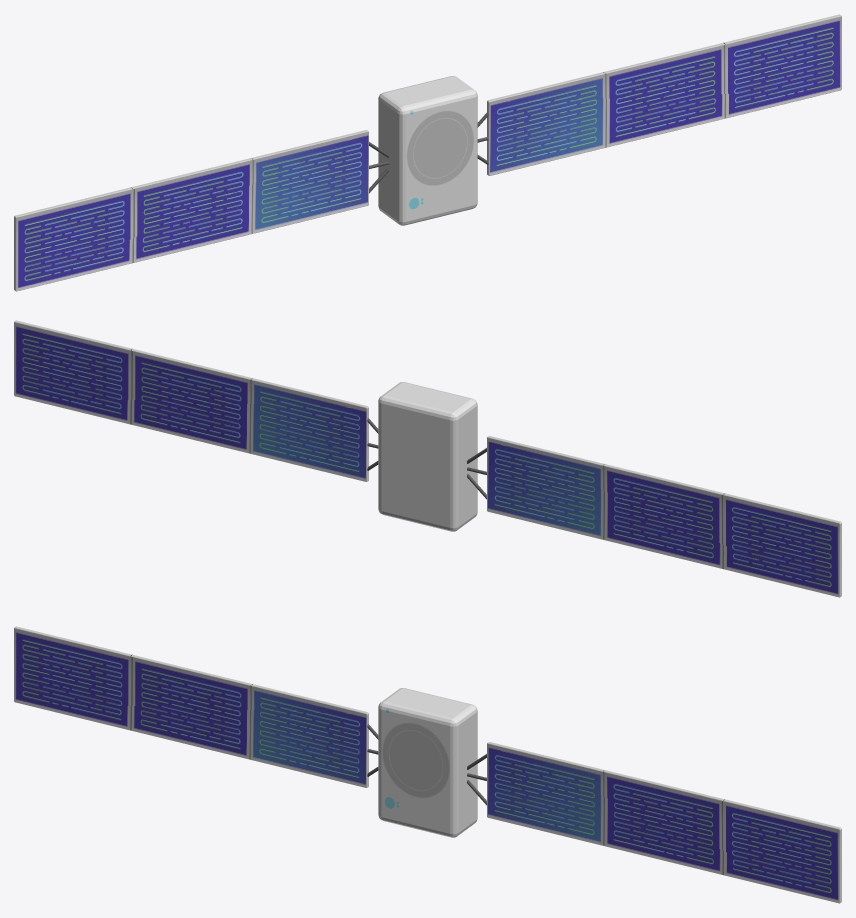
The model's file is satellite.gltf.
3 renders of one model, top to bottom at view 1: azimuth 30°, elevation 25°; view 2: azimuth 150°, elevation 25°; view 3: azimuth 330°, elevation 25°, orthographic.
Visible parts, largest first — view 1: Wing, Cube; view 2: Wing, Cube; view 3: Wing, Cube.
Boxes of the visible parts, x1,y1,x2,y2 form: Wing: [14, 14, 841, 291]; Cube: [378, 76, 477, 225]; Wing: [14, 320, 841, 597]; Cube: [378, 382, 477, 531]; Wing: [14, 626, 841, 903]; Cube: [378, 688, 477, 837].
Bounding box in the file's own units: 39.44 × 5.43 × 2.01.
Materials: 4 (2 with a texture image).
